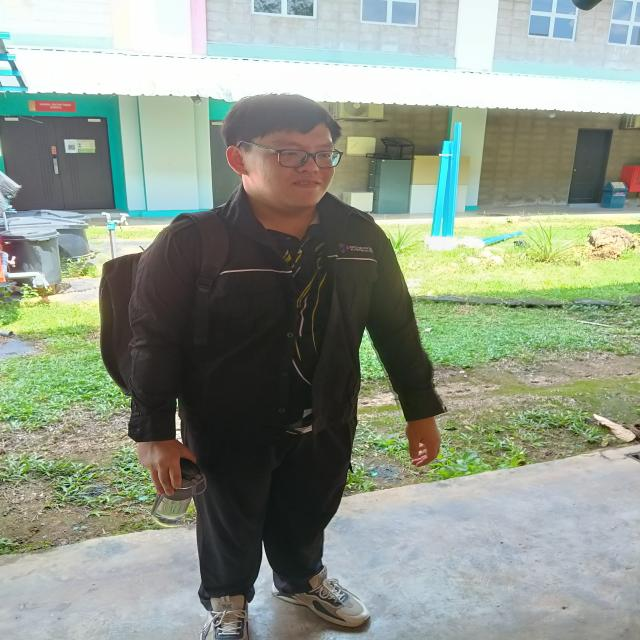person_with_labcoat: (127, 95, 445, 640)
